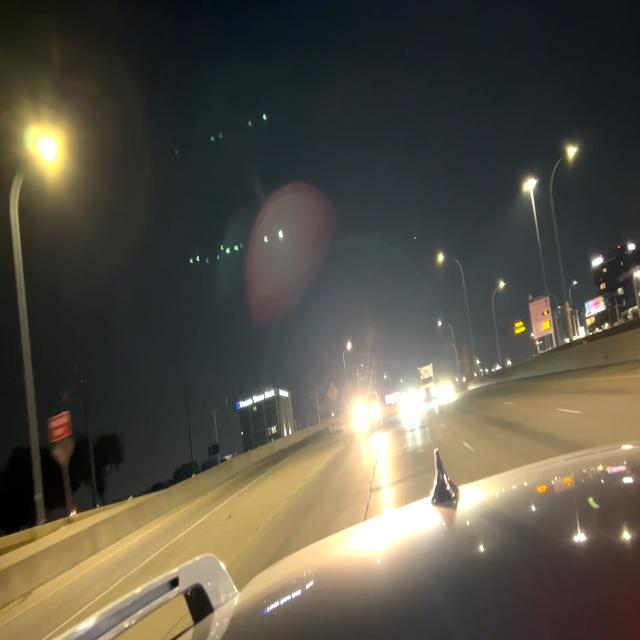back-of-sign: (326, 376, 339, 407)
